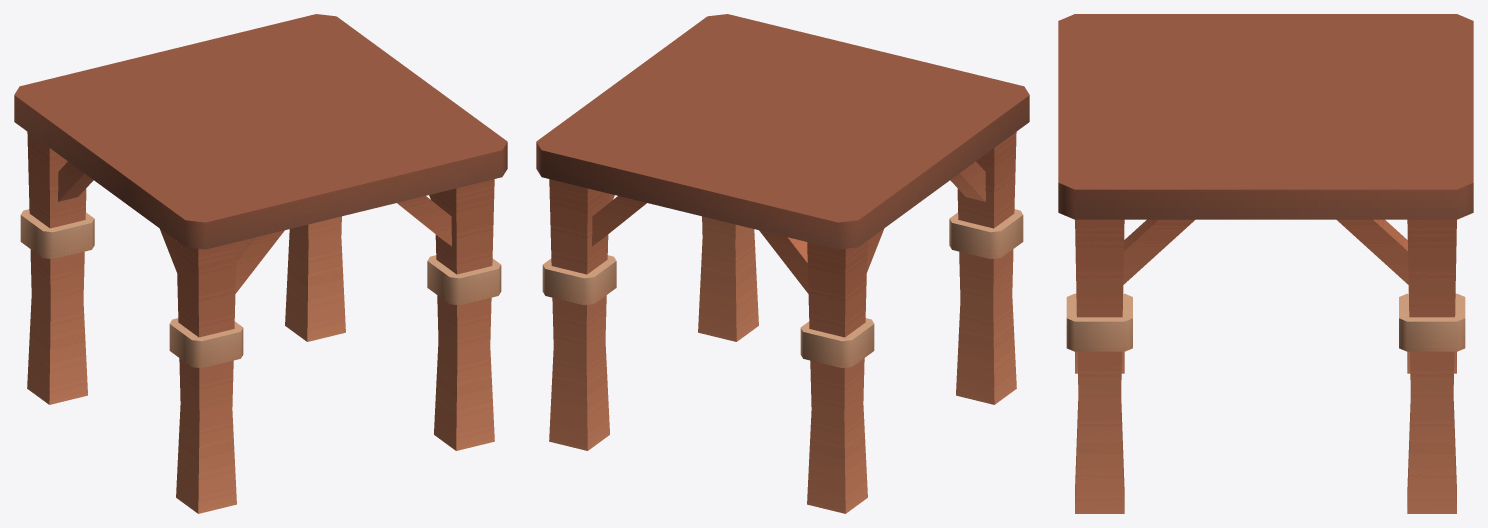
File: structure.001_lev2.glb
3 views of the same model, side by side, from view 1: azimuth 30°, elevation 25°; view 2: azimuth 150°, elevation 25°; view 3: azimuth 270°, elevation 25° (orthographic). The views are drawn at different scales.
Visible parts, largest first — view 1: structure.001_lev2; view 2: structure.001_lev2; view 3: structure.001_lev2.
Part boxes in pixels (left/top/right/bottom): structure.001_lev2: left=14, top=14, right=507, bottom=513; structure.001_lev2: left=536, top=14, right=1029, bottom=513; structure.001_lev2: left=1058, top=14, right=1473, bottom=513.
Size of the model in its own units: 3.93 by 3.46 by 3.93.
1 material, 1 textured.
